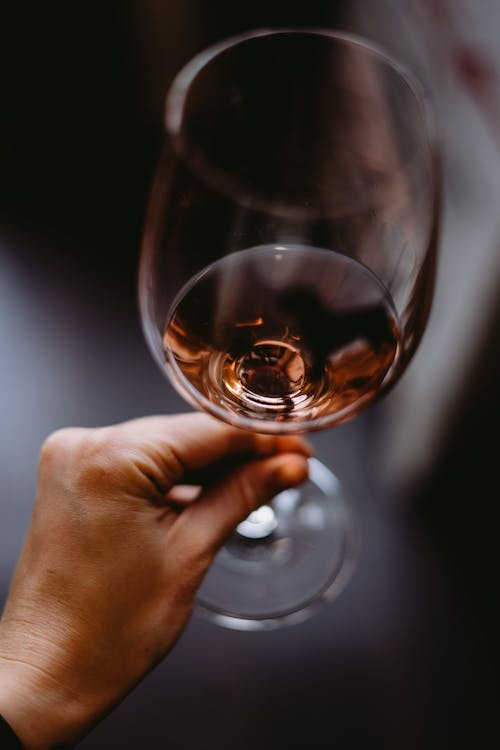alcohol: (132, 25, 444, 634)
